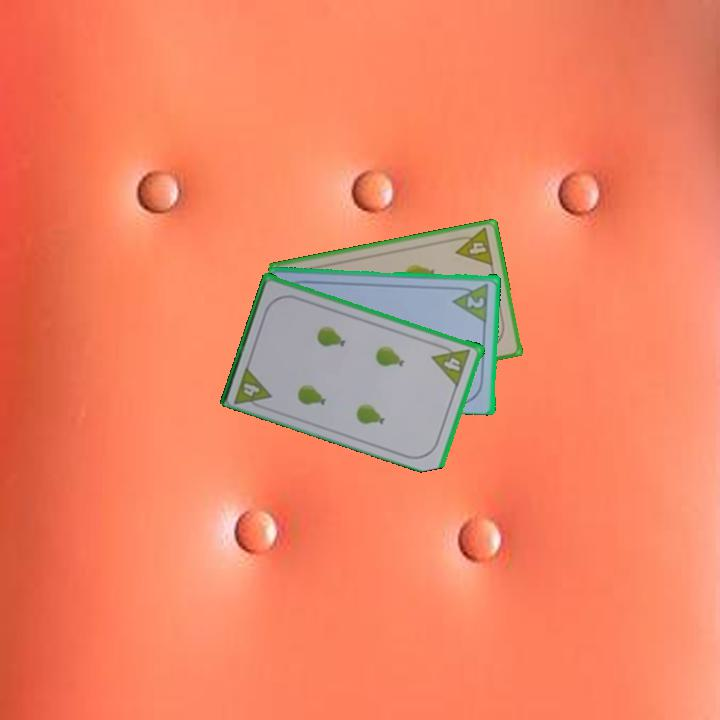2p: (450, 279, 491, 323)
4p: (450, 224, 496, 269), (429, 353, 466, 387), (240, 379, 263, 399)
